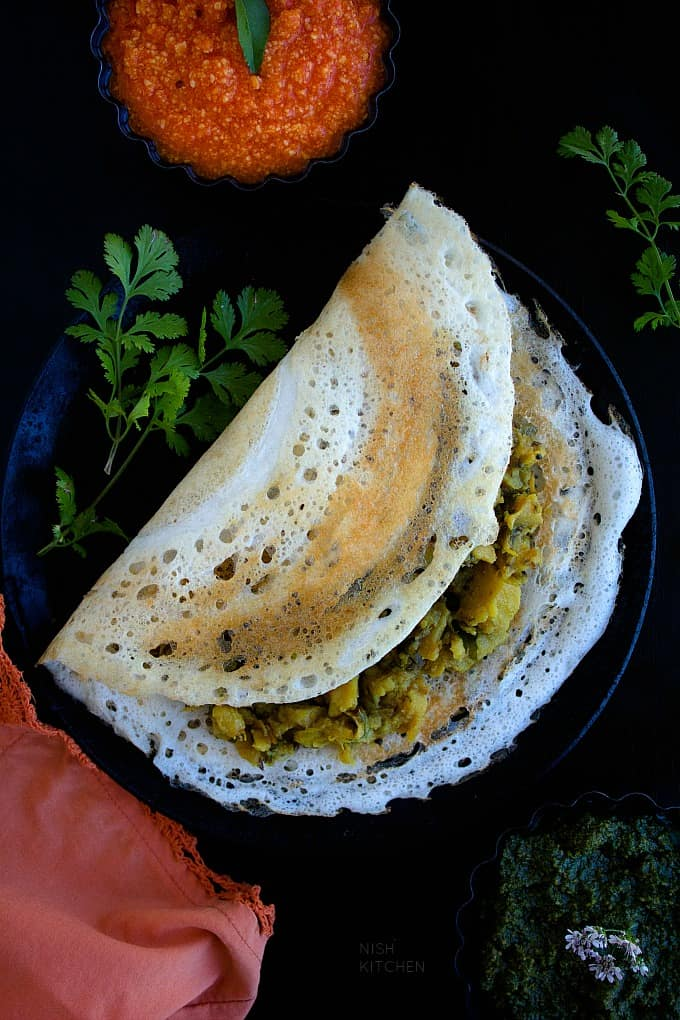dosa: (36, 165, 644, 857)
